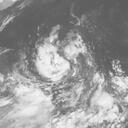cyclone: (33, 23, 89, 81)
